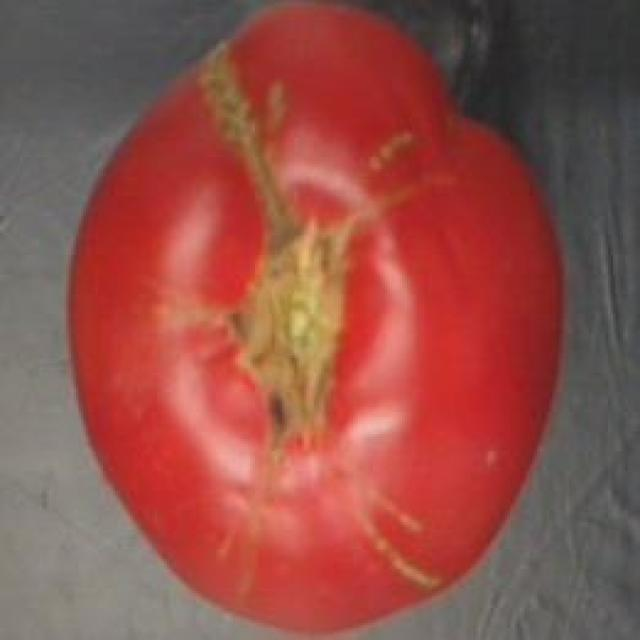overripe tomato: (44, 2, 598, 640)
